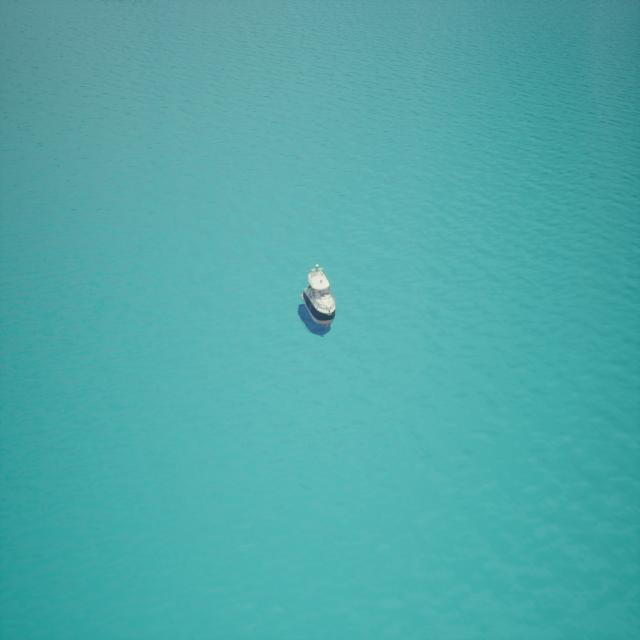ship: (299, 259, 339, 336)
